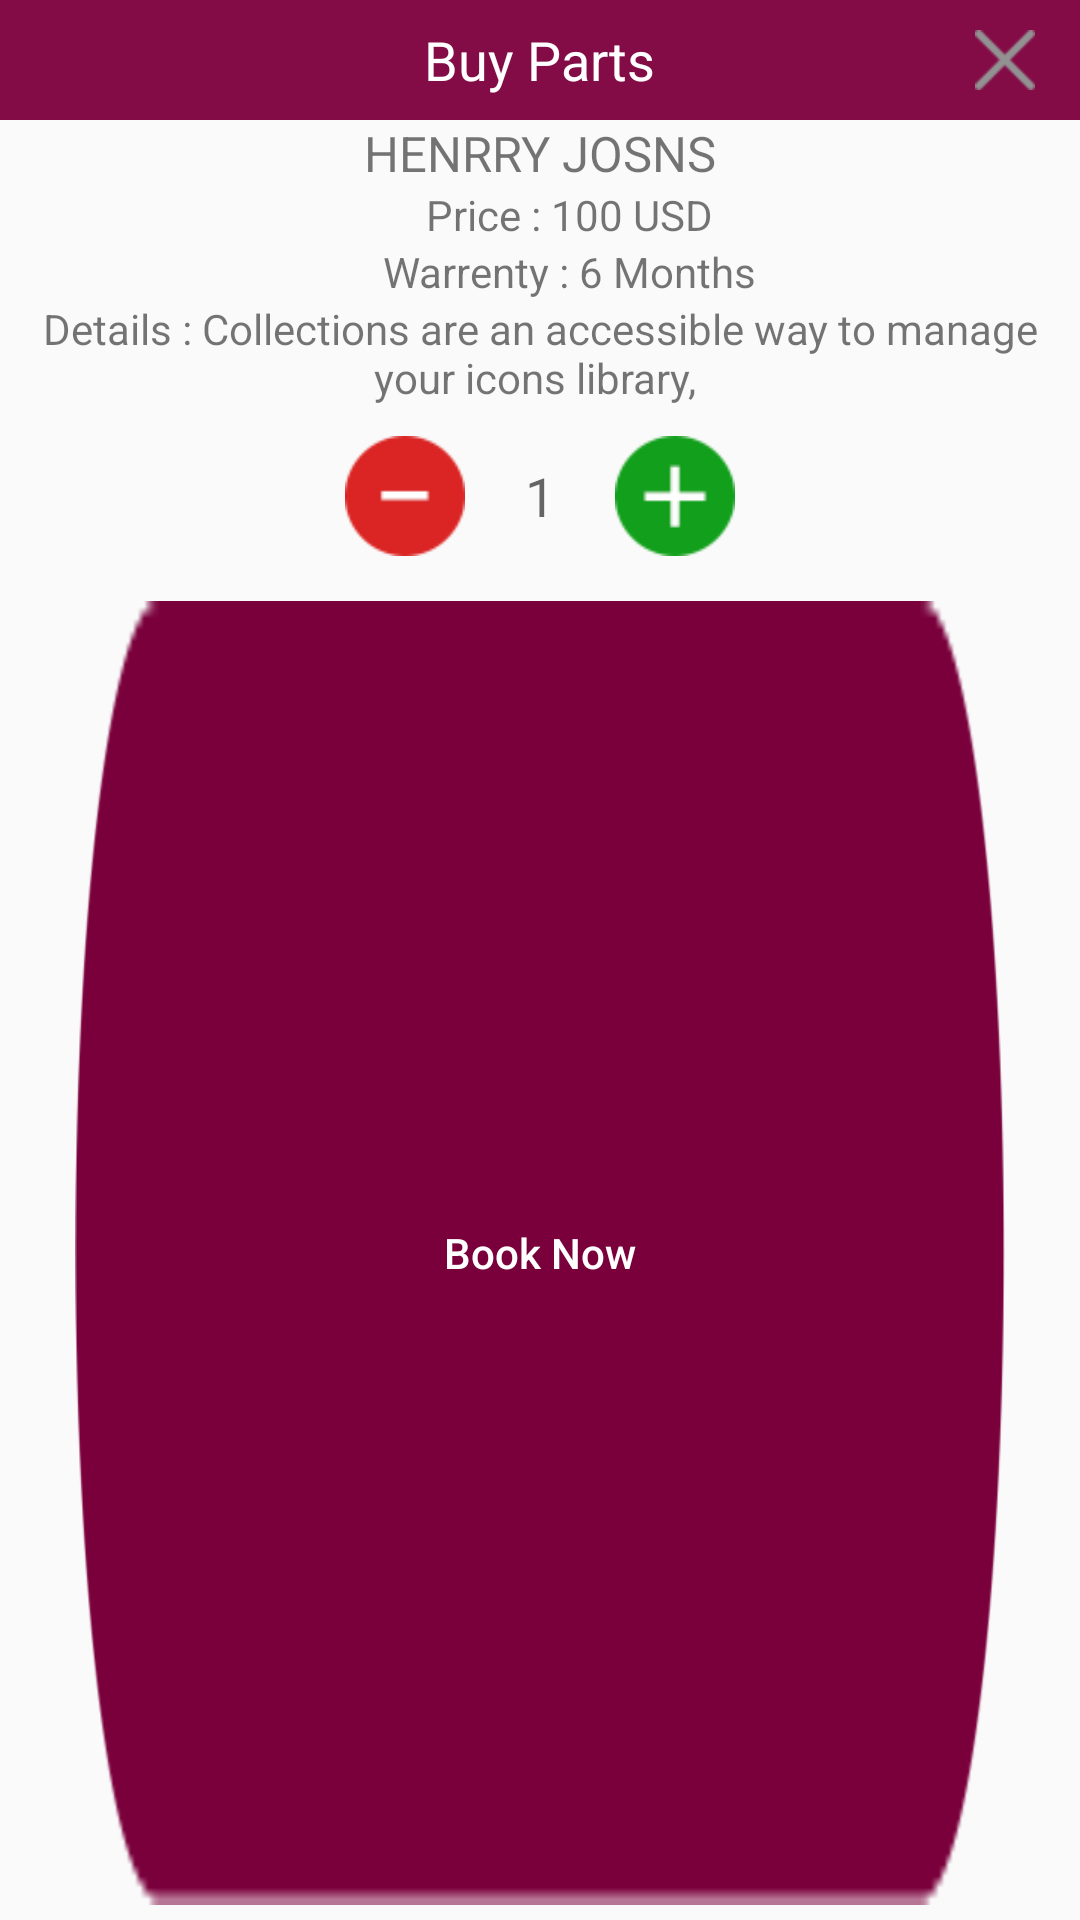

Named icons in this screenshot (1080x1920) and their bounding boxes, (x1, y1, x2, y2):
cross: (975, 30, 1035, 90)
